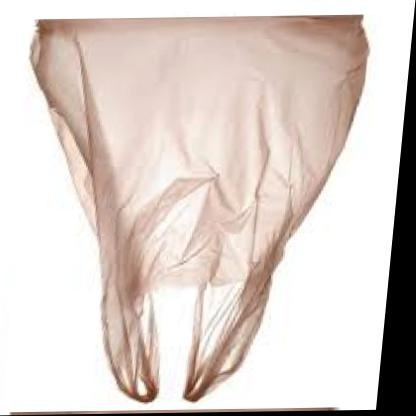trash: (31, 16, 367, 401)
